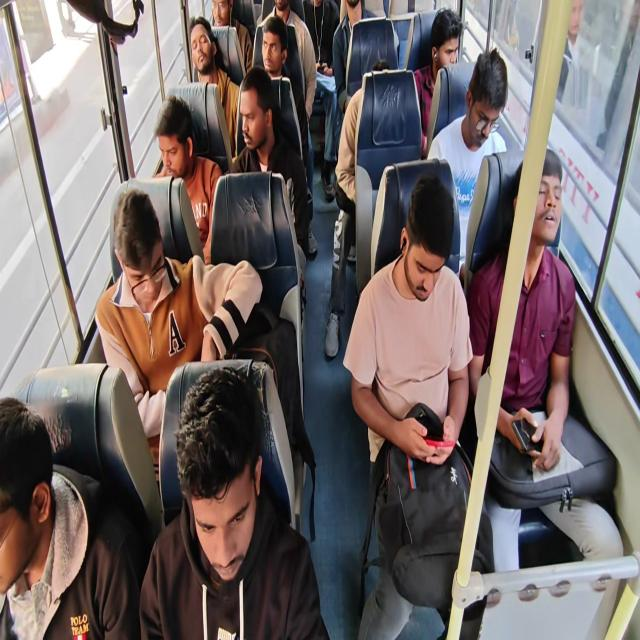person: (101, 199, 218, 439), (0, 391, 81, 640), (203, 420, 273, 640), (402, 206, 453, 333), (462, 51, 520, 162), (514, 160, 576, 246), (147, 95, 195, 192), (238, 89, 282, 177), (299, 0, 340, 86), (342, 65, 396, 125), (191, 17, 229, 79), (430, 9, 461, 74), (248, 25, 284, 70), (338, 0, 371, 37), (206, 3, 237, 36), (268, 0, 292, 25)
